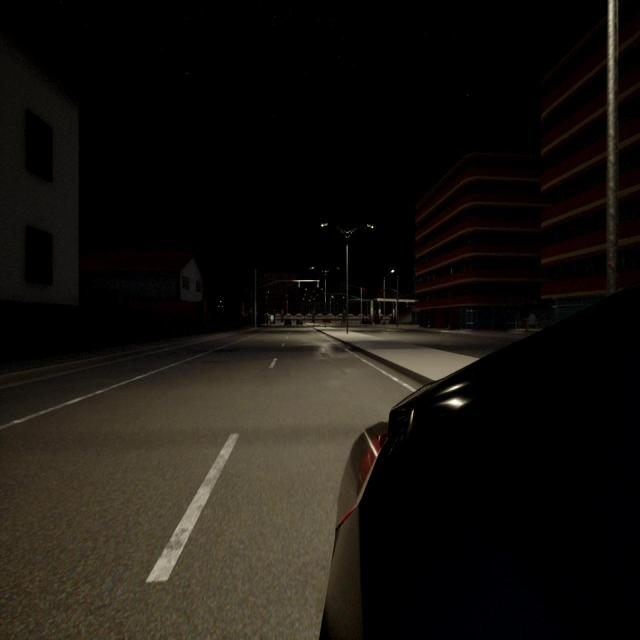Vehicle: (326, 298, 639, 638), (284, 319, 291, 326), (362, 318, 370, 324), (322, 318, 332, 322), (296, 320, 302, 326)
traffic_light: (316, 282, 318, 288), (298, 282, 300, 287), (343, 294, 345, 298), (332, 295, 334, 298)
